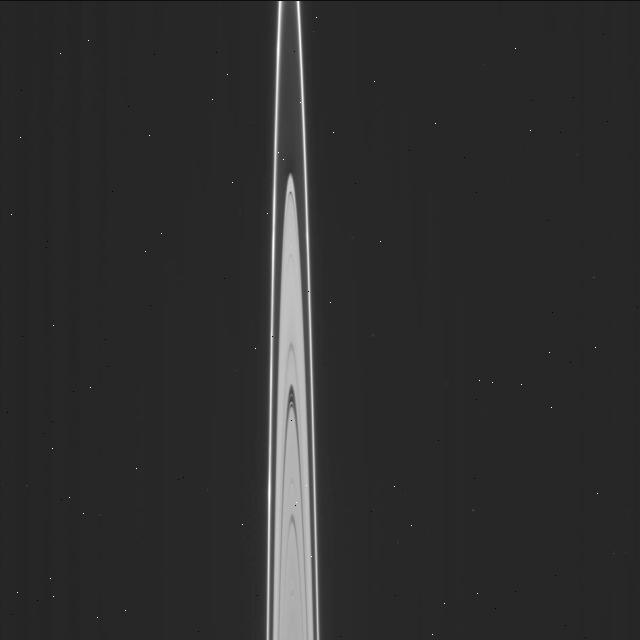Saturn: (262, 0, 324, 640)
